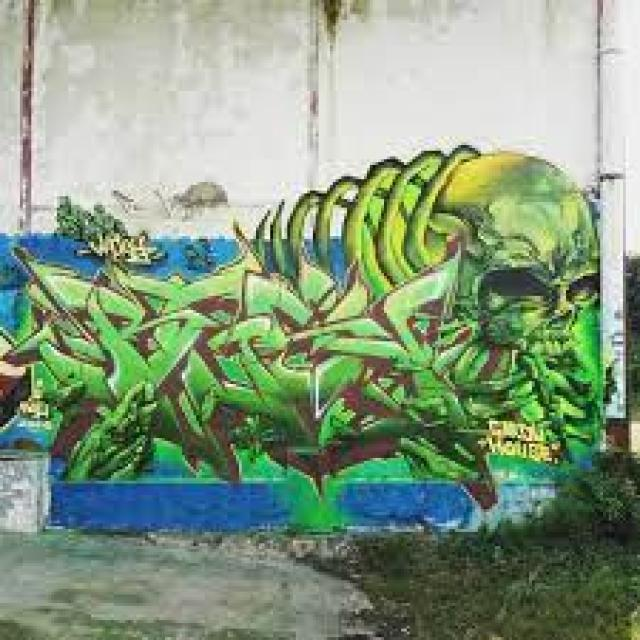-: (0, 142, 609, 492)
